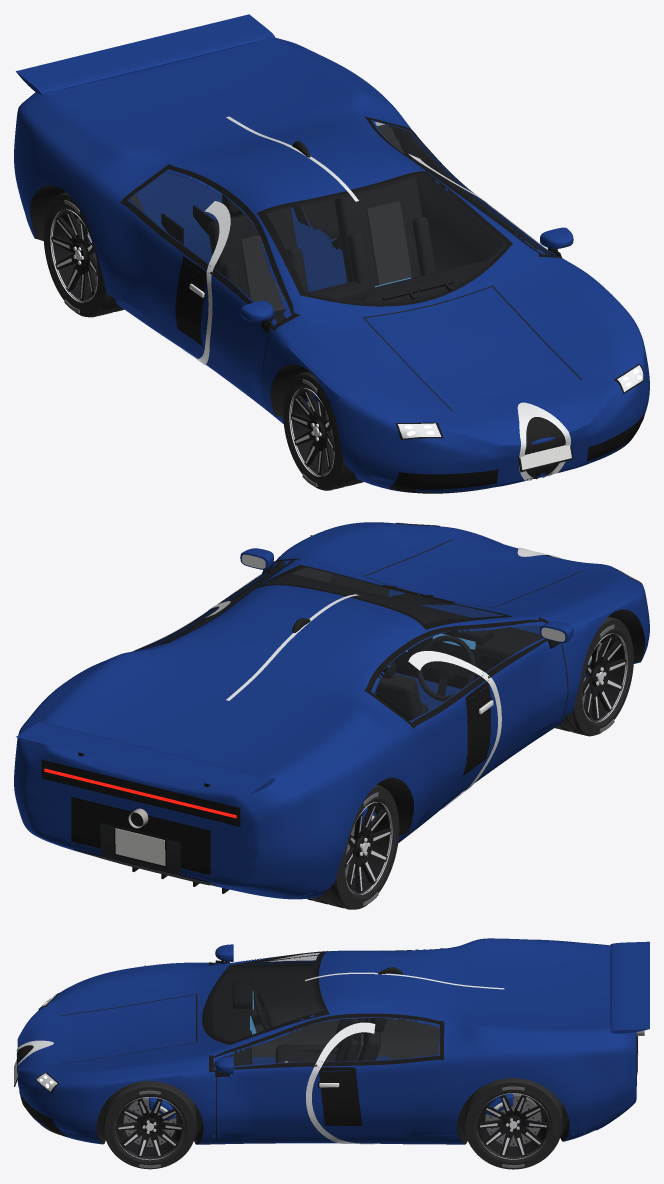
The model's file is tourbillon.glb.
3 renders of one model, top to bottom at view 1: azimuth 30°, elevation 25°; view 2: azimuth 150°, elevation 25°; view 3: azimuth 270°, elevation 25°, orthographic. The views are drawn at different scales.
Visible parts, largest first — view 1: Body, Wheel_RR, Wheel_FR, Wheel_RL; view 2: Body, Wheel_RR, Wheel_FR; view 3: Body, Wheel_RL, Wheel_FL.
Boxes of the visible parts, x1,y1,x2,y2 form: Body: (14,14,649,493); Wheel_RR: (43,192,124,317); Wheel_FR: (283,371,363,490); Wheel_RL: (294,199,341,249); Body: (14,522,649,899); Wheel_RR: (307,785,399,909); Wheel_FR: (555,616,633,736); Body: (14,938,649,1144); Wheel_RL: (464,1078,562,1169); Wheel_FL: (103,1081,196,1169).
Bounding box in the file's own units: 2.19 × 1.24 × 4.8.
